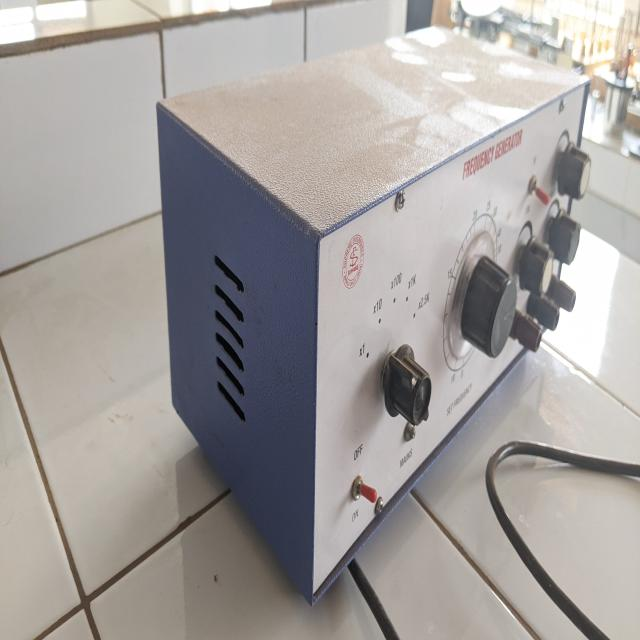Analog Frequency Generator: (163, 109, 612, 519)
